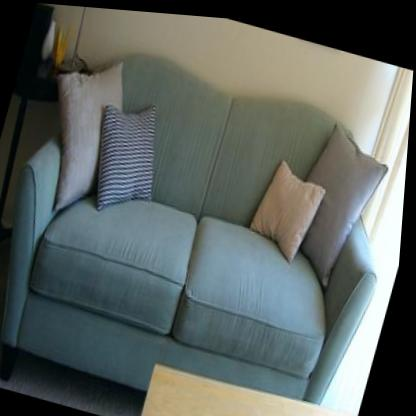Sofa: (0, 25, 415, 416)
